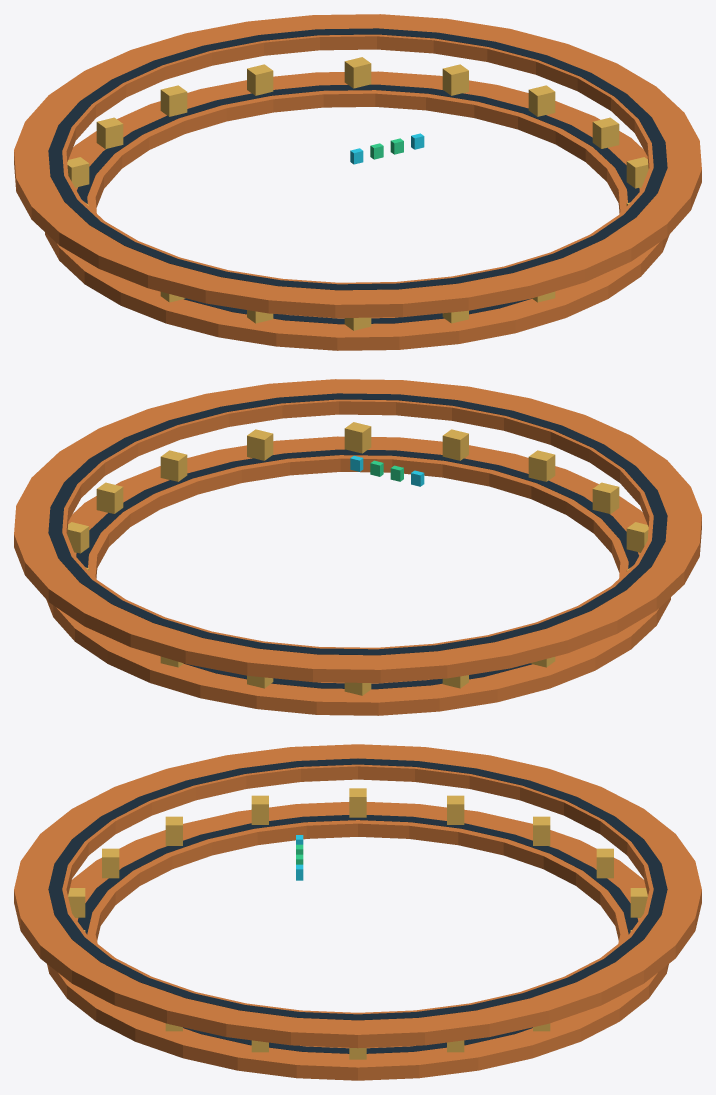
The model's file is 17_L78_CapElectrodeDistributionAssembly.fbx.
3 renders of one model, top to bottom at view 1: azimuth 30°, elevation 25°; view 2: azimuth 150°, elevation 25°; view 3: azimuth 270°, elevation 25°, orthographic.
Parts seen in each view (by area): view 1: CapElectrodeDistributionAssembly; view 2: CapElectrodeDistributionAssembly; view 3: CapElectrodeDistributionAssembly.
Boxes of the visible parts, x1,y1,x2,y2 form: CapElectrodeDistributionAssembly: (14,14,701,350); CapElectrodeDistributionAssembly: (14,379,701,715); CapElectrodeDistributionAssembly: (14,744,701,1080).
Size of the model in its own units: 236 by 38.2 by 236.
